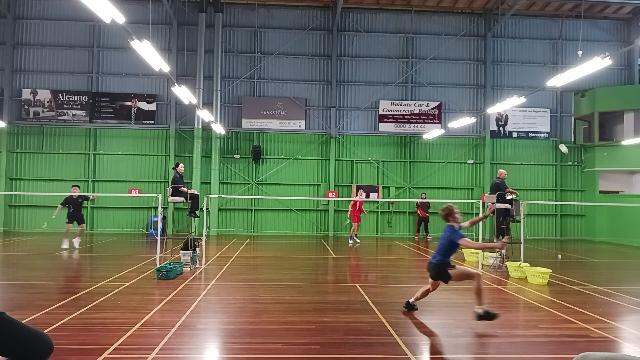Shuttlecock: (556, 142, 570, 156)
